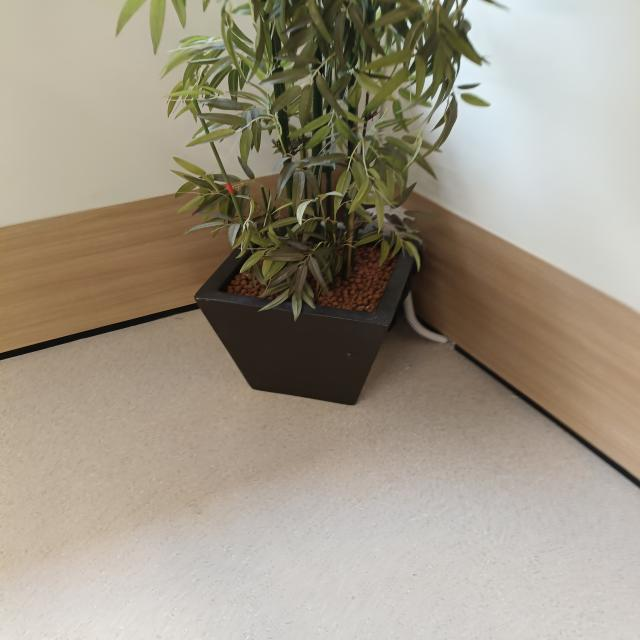Pot: (193, 220, 423, 406)
